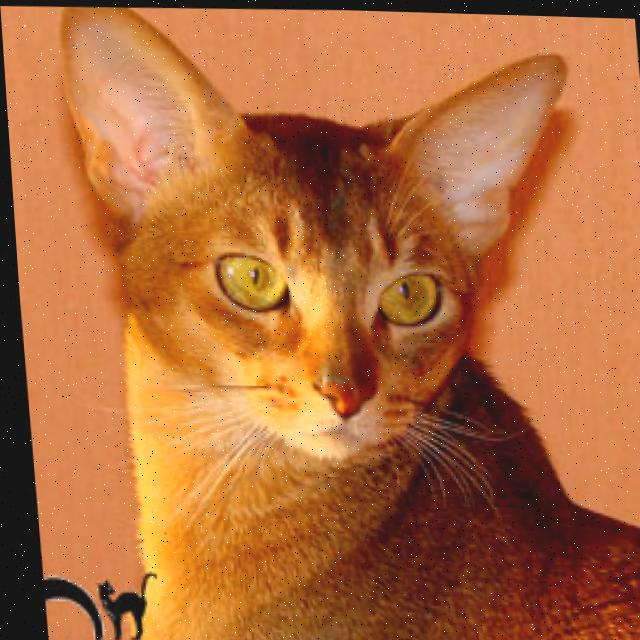Abyssinian: (54, 1, 640, 640)
